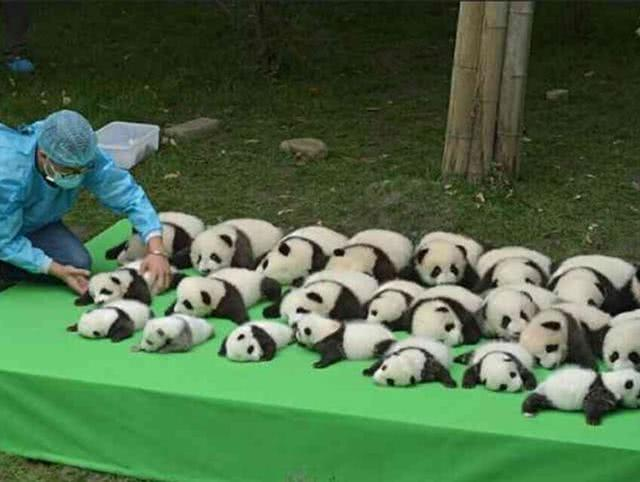panda: (79, 195, 638, 426)
